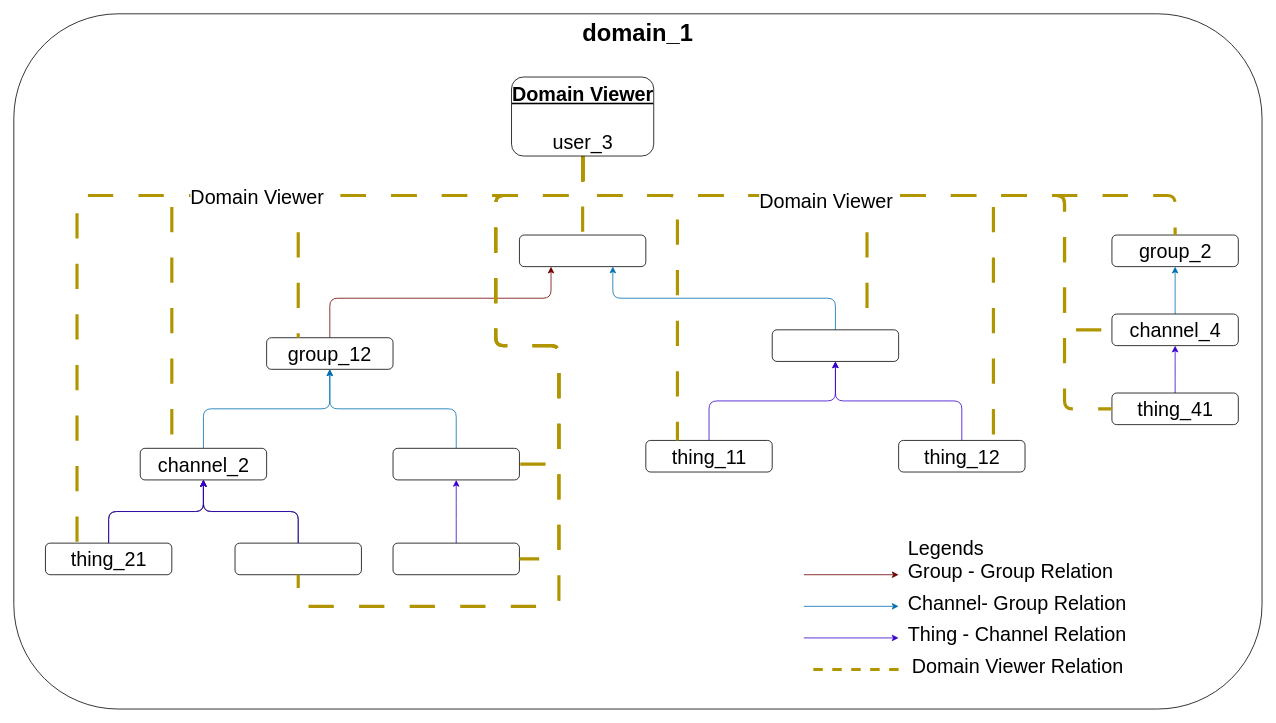
Image size: 1276x723. Some labels were removed from this diagram. Each missing label, with the centre of its shape:
"channel_1" belongs at (835,345).
"channel_3" belongs at (455,464).
"group_1" belongs at (582,250).
"thing_22" belongs at (297,558).
"thing_31" belongs at (455,558).
